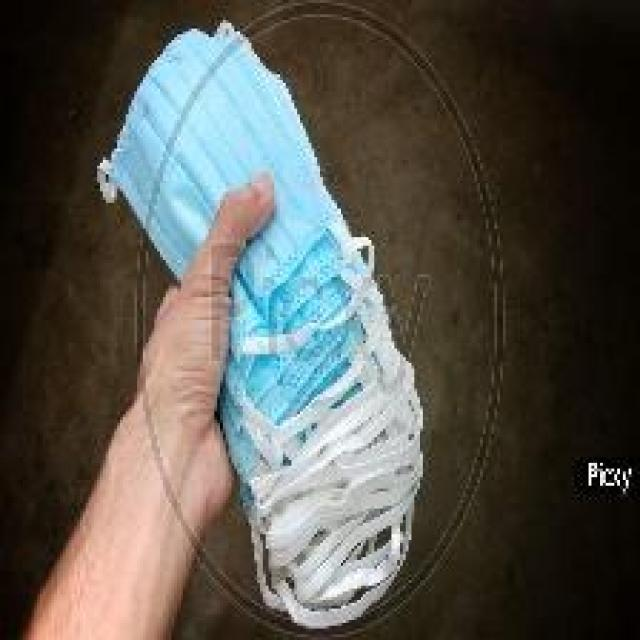Mask: (92, 86, 492, 626)
